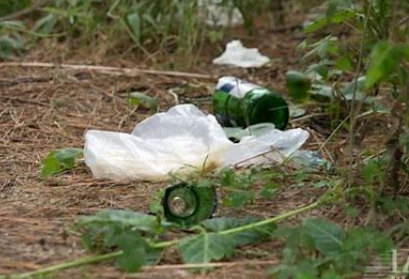garbage: (75, 105, 326, 175), (207, 77, 286, 127), (146, 176, 230, 222), (210, 35, 272, 75)
